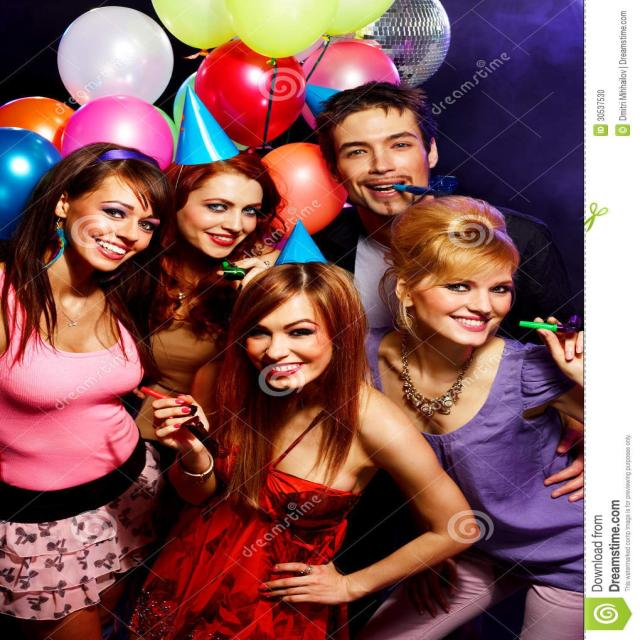body: (124, 260, 488, 640), (354, 191, 586, 640), (0, 137, 184, 639), (306, 77, 573, 347), (120, 82, 292, 476)
